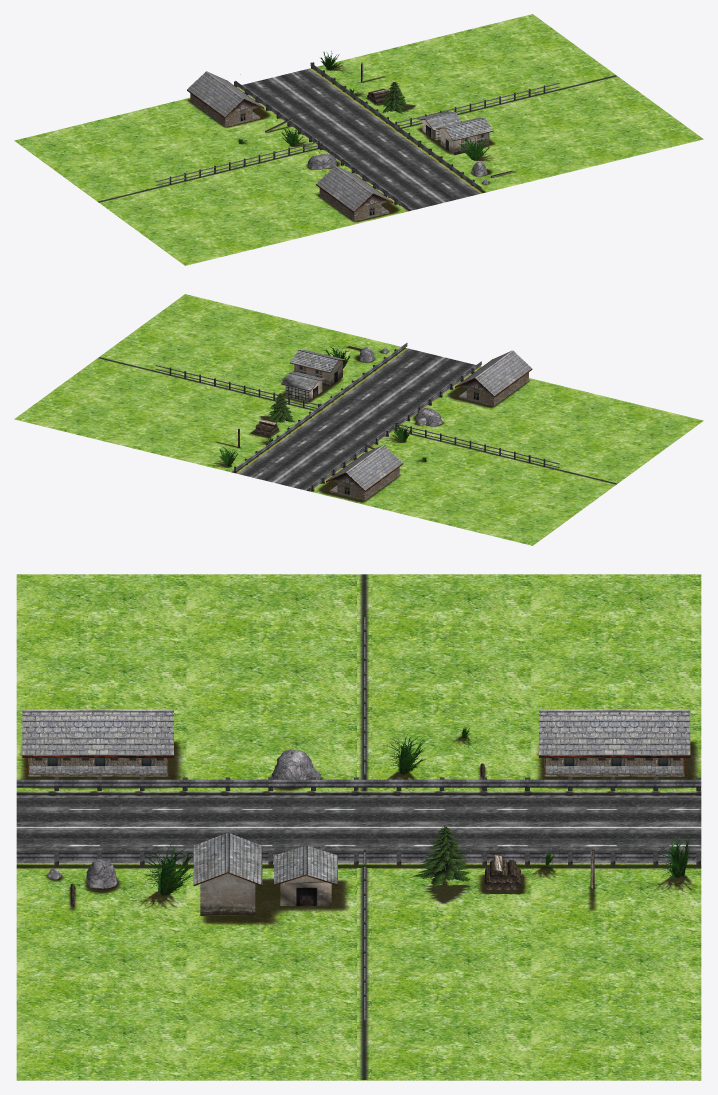
File: end2.FBX
3 views of the same model, one above another, from view 1: azimuth 30°, elevation 25°; view 2: azimuth 150°, elevation 25°; view 3: azimuth 270°, elevation 25° (orthographic). The views are drawn at different scales.
Visible parts, largest first — view 1: end2, road001, Box068, boundry1, b1, relling001, tree003, rock012, Box069, Box070; view 2: end2, road001, Box068, boundry1, b1, relling001, tree003, rock012, Box069, Box070; view 3: end2, road001, Box068, relling001, b1, boundry1, tree003, rock012, Box069, Box070.
Part boxes in pixels (box(x1,y1,x2,y2)): end2: box(14, 14, 703, 265); road001: box(237, 68, 481, 211); Box068: box(187, 71, 393, 221); boundry1: box(96, 74, 617, 203); b1: box(418, 111, 493, 155); relling001: box(234, 62, 481, 209); tree003: box(237, 51, 490, 159); rock012: box(307, 154, 488, 184); Box069: box(240, 74, 408, 113); Box070: box(265, 63, 512, 177); end2: box(14, 294, 703, 545); road001: box(236, 348, 481, 491); Box068: box(326, 350, 532, 500); boundry1: box(97, 356, 618, 485); b1: box(281, 350, 347, 400); relling001: box(234, 343, 481, 491); tree003: box(219, 346, 426, 466); rock012: box(359, 347, 442, 426); Box069: box(267, 393, 347, 449); Box070: box(238, 346, 374, 449); end2: box(16, 574, 701, 1080); road001: box(16, 791, 701, 863); Box068: box(22, 709, 690, 776); relling001: box(16, 777, 701, 865); b1: box(193, 832, 337, 915); boundry1: box(357, 574, 372, 1079); tree003: box(136, 726, 690, 896); rock012: box(47, 749, 320, 888); Box069: box(412, 713, 620, 886); Box070: box(70, 763, 594, 907).
Size of the model in its own units: 140 by 9.22 by 80.
